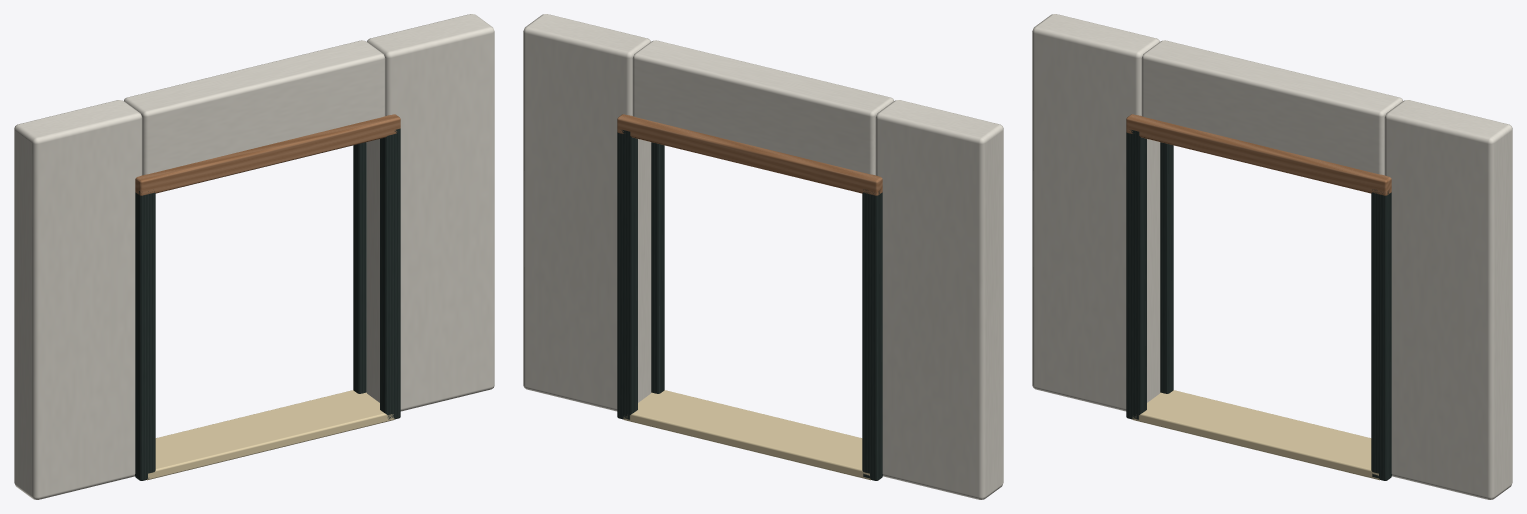
Rendered from wall-door.glb.
The picture shows the model from 3 angles, left to right: view 1: azimuth 30°, elevation 25°; view 2: azimuth 150°, elevation 25°; view 3: azimuth 330°, elevation 25°; orthographic projection.
Visible parts, largest first — view 1: DoorWall_Left, DoorWall_Right, DoorWall_Header, Door_Threshold, Door_Jamb_Left_-1, Door_Jamb_Right_-1, Door_Jamb_Head_-1, Door_Jamb_Right_1; view 2: DoorWall_Left, DoorWall_Right, DoorWall_Header, Door_Threshold, Door_Jamb_Left_1, Door_Jamb_Right_1, Door_Jamb_Head_1, Door_Jamb_Right_-1; view 3: DoorWall_Right, DoorWall_Left, DoorWall_Header, Door_Threshold, Door_Jamb_Right_-1, Door_Jamb_Left_-1, Door_Jamb_Head_-1, Door_Jamb_Left_1.
Part boxes in pixels (x1,y1,x2,y2): DoorWall_Left: (14,100,142,499); DoorWall_Right: (366,14,494,411); DoorWall_Header: (124,40,385,175); Door_Threshold: (147,390,394,480); Door_Jamb_Left_-1: (135,191,155,480); Door_Jamb_Right_-1: (380,128,400,419); Door_Jamb_Head_-1: (135,114,400,195); Door_Jamb_Right_1: (353,142,366,393); DoorWall_Left: (875,100,1003,499); DoorWall_Right: (523,14,651,411); DoorWall_Header: (632,40,893,175); Door_Threshold: (623,390,870,480); Door_Jamb_Left_1: (862,189,882,480); Door_Jamb_Right_1: (617,130,637,419); Door_Jamb_Head_1: (617,114,882,195); Door_Jamb_Right_-1: (651,142,664,393); DoorWall_Right: (1384,100,1512,499); DoorWall_Left: (1032,14,1160,411); DoorWall_Header: (1141,40,1402,175); Door_Threshold: (1132,390,1379,480); Door_Jamb_Right_-1: (1371,189,1391,480); Door_Jamb_Left_-1: (1126,130,1146,419); Door_Jamb_Head_-1: (1126,114,1391,195); Door_Jamb_Left_1: (1160,142,1173,393).
Size of the model in its own units: 4 by 3 by 0.5.
4 materials, 3 textured.
